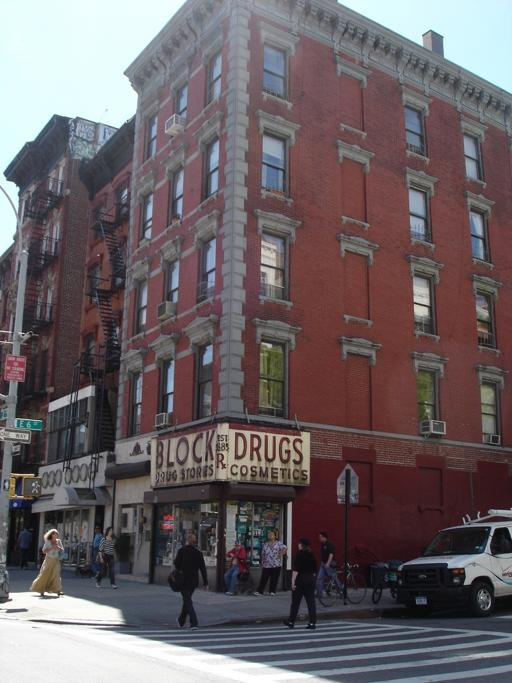non-vehicle: (317, 561, 367, 606), (369, 559, 399, 603)
